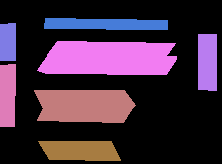parkingspot: (37, 54, 176, 74), (47, 41, 175, 57), (34, 90, 135, 108), (38, 141, 120, 160), (37, 106, 133, 122), (44, 18, 167, 29), (198, 34, 216, 90), (0, 64, 15, 126), (0, 23, 15, 60)
